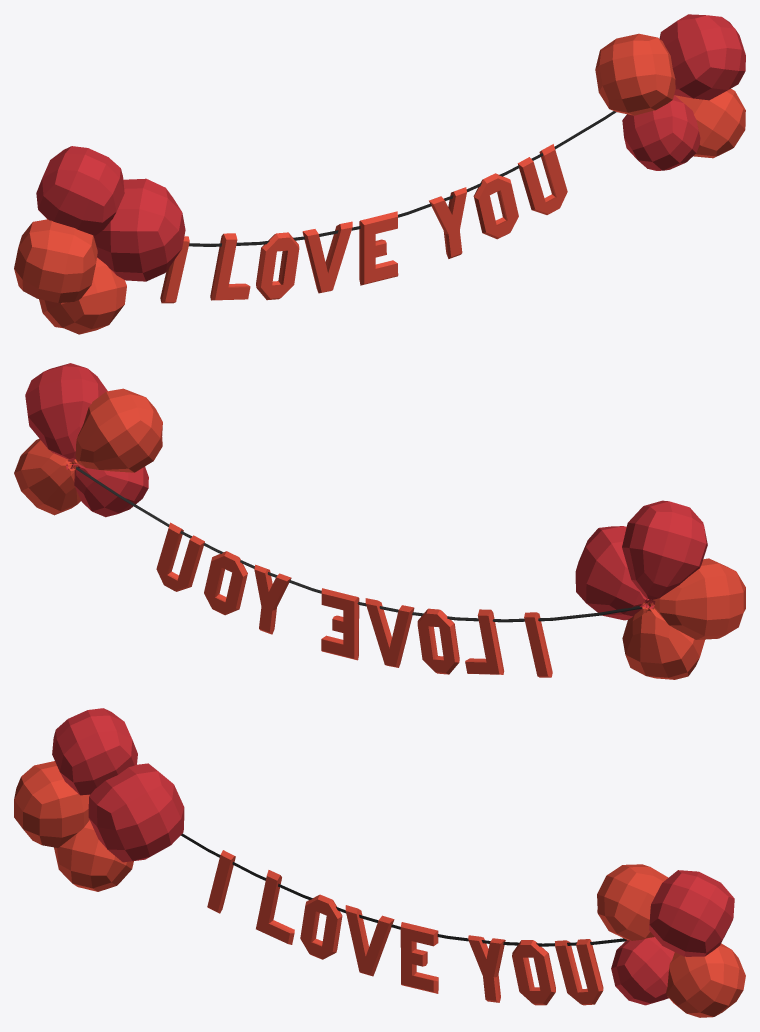
The model's file is props-balloons-sign-i-love-you-big.glb.
3 views of the same model, one above another, from view 1: azimuth 30°, elevation 25°; view 2: azimuth 150°, elevation 25°; view 3: azimuth 330°, elevation 25° (orthographic). The views are drawn at different scales.
Parts seen in each view (by area): view 1: balloons-sign-i-love-you-big; view 2: balloons-sign-i-love-you-big; view 3: balloons-sign-i-love-you-big.
Boxes of the visible parts, x1,y1,x2,y2 form: balloons-sign-i-love-you-big: (14, 14, 745, 334); balloons-sign-i-love-you-big: (14, 363, 745, 679); balloons-sign-i-love-you-big: (14, 708, 745, 1017).
Bounding box in the file's own units: 3.09 × 0.889 × 0.3934.
